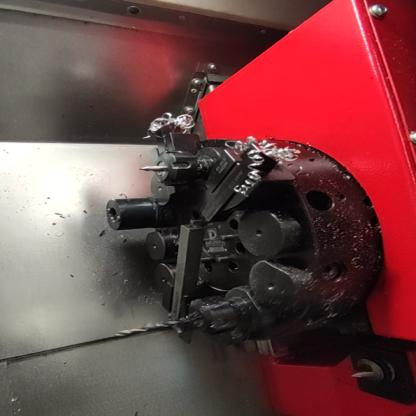bit: (194, 138, 286, 226), (153, 222, 210, 347), (143, 118, 207, 200)
